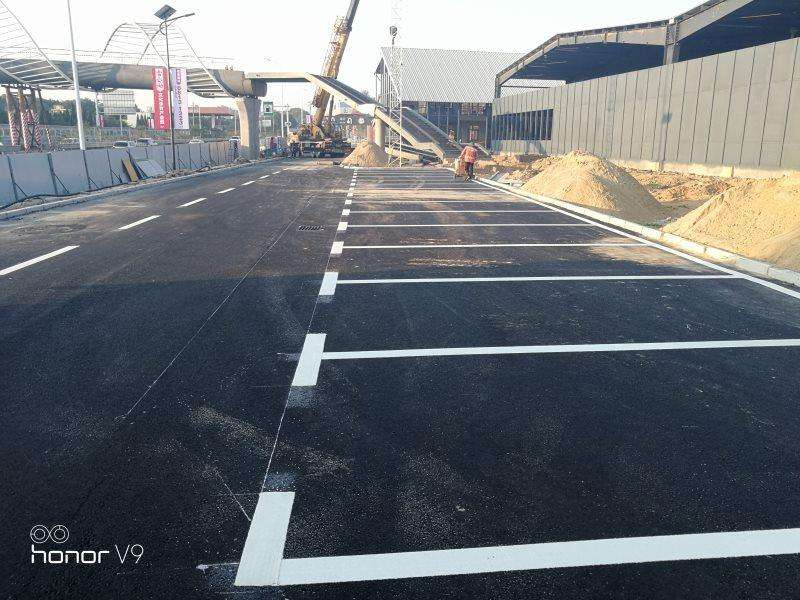slot_nocar: (238, 321, 800, 591), (284, 262, 800, 371), (310, 232, 755, 294), (316, 217, 673, 251), (333, 205, 610, 233), (335, 189, 550, 207)
